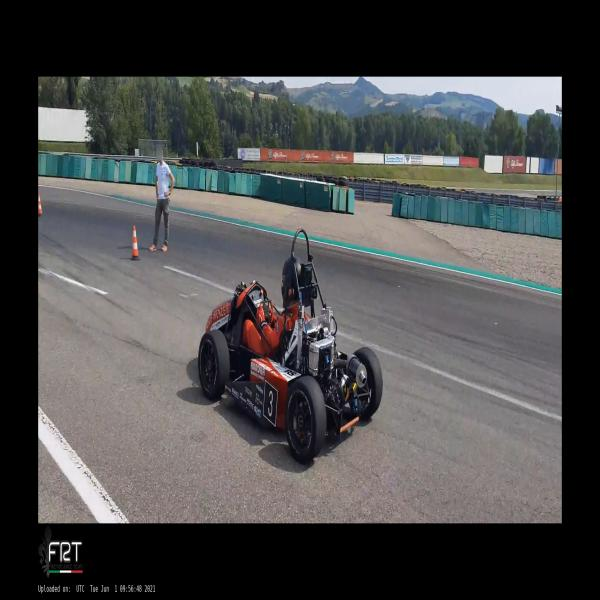large_orange_cone: (130, 226, 140, 260), (38, 193, 43, 216)
